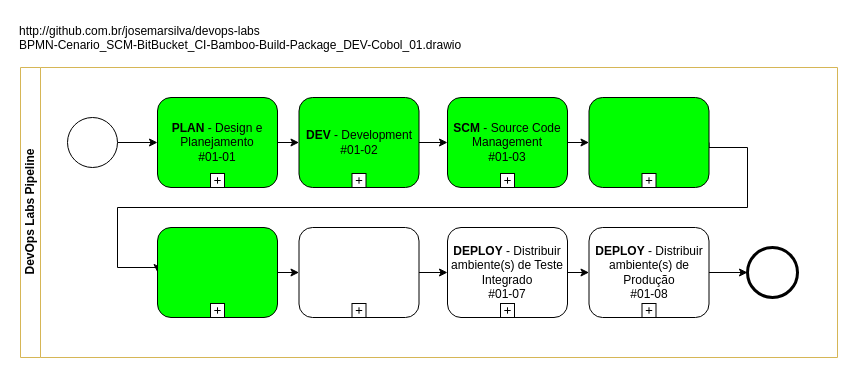
This 855x375 diagram has some shape labels left out. Each missing label, with the centre of its shape:
BUILD - Compilar #01-04: point 648,142
DEPLOY - Distribuir ambiente(s) de Teste Unitário #01-06: point 358,272
PACKAGE - Empacotar p/ deploy #01-05: point 217,272
